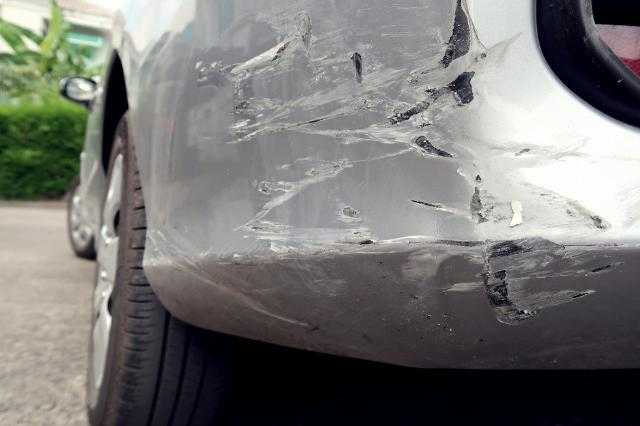scratch: (150, 0, 640, 363)
